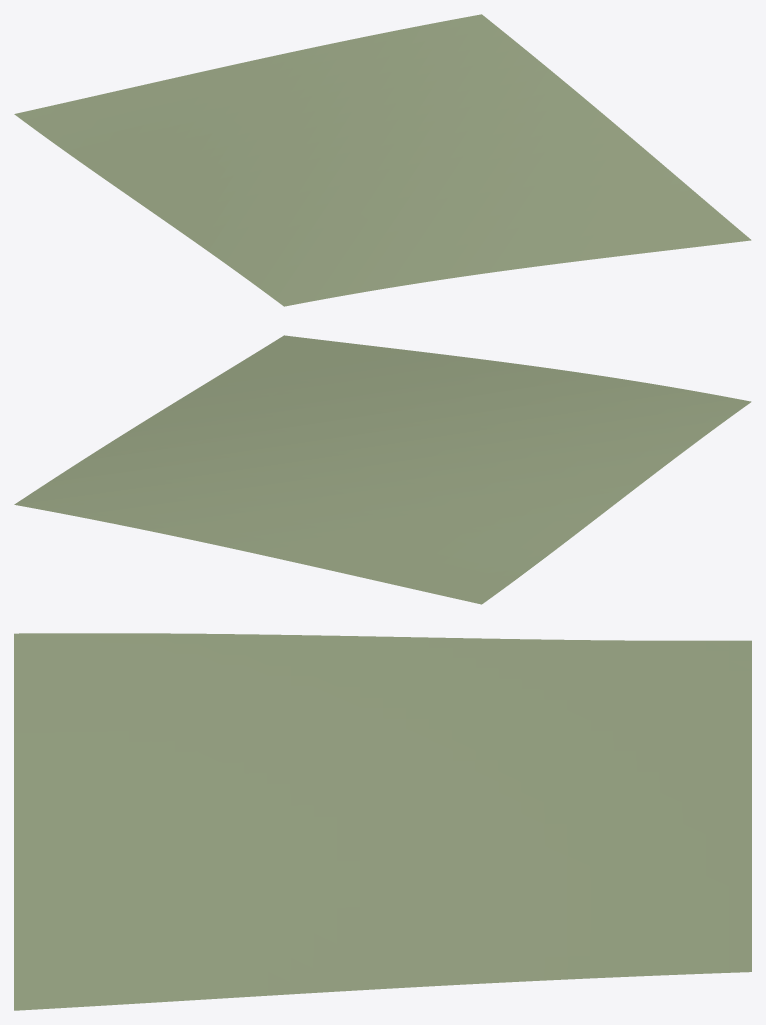
Rendered from alpine-15-15.glb.
3 renders of one model, top to bottom at view 1: azimuth 30°, elevation 25°; view 2: azimuth 150°, elevation 25°; view 3: azimuth 270°, elevation 25°, orthographic. The views are drawn at different scales.
Parts seen in each view (by area): view 1: alpine-15-15; view 2: alpine-15-15; view 3: alpine-15-15.
Part boxes in pixels (x1,y1,x2,y2): alpine-15-15: (14,14,751,306); alpine-15-15: (14,335,751,604); alpine-15-15: (14,633,751,1010).
Size of the model in its own units: 256 by 25.16 by 256.
